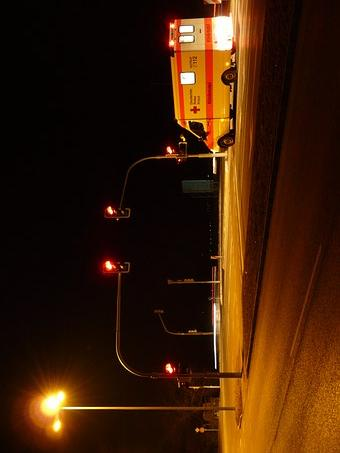trafic: (103, 260, 132, 273), (102, 205, 131, 218)
